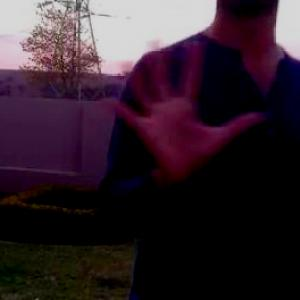follow_hand: (99, 33, 269, 190)
